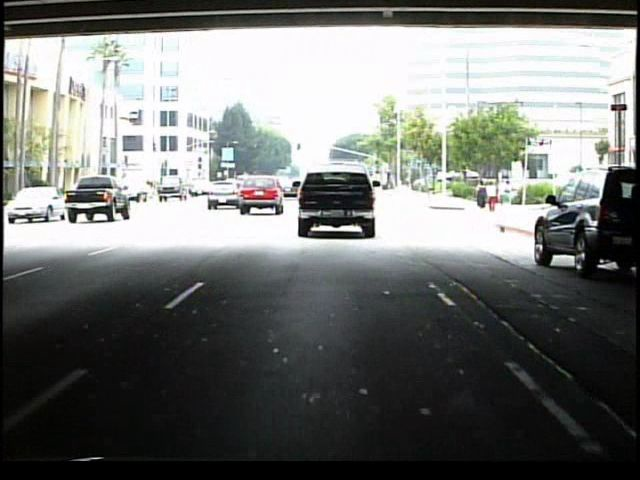person: (500, 178, 515, 216), (474, 179, 489, 216), (488, 181, 500, 214)
